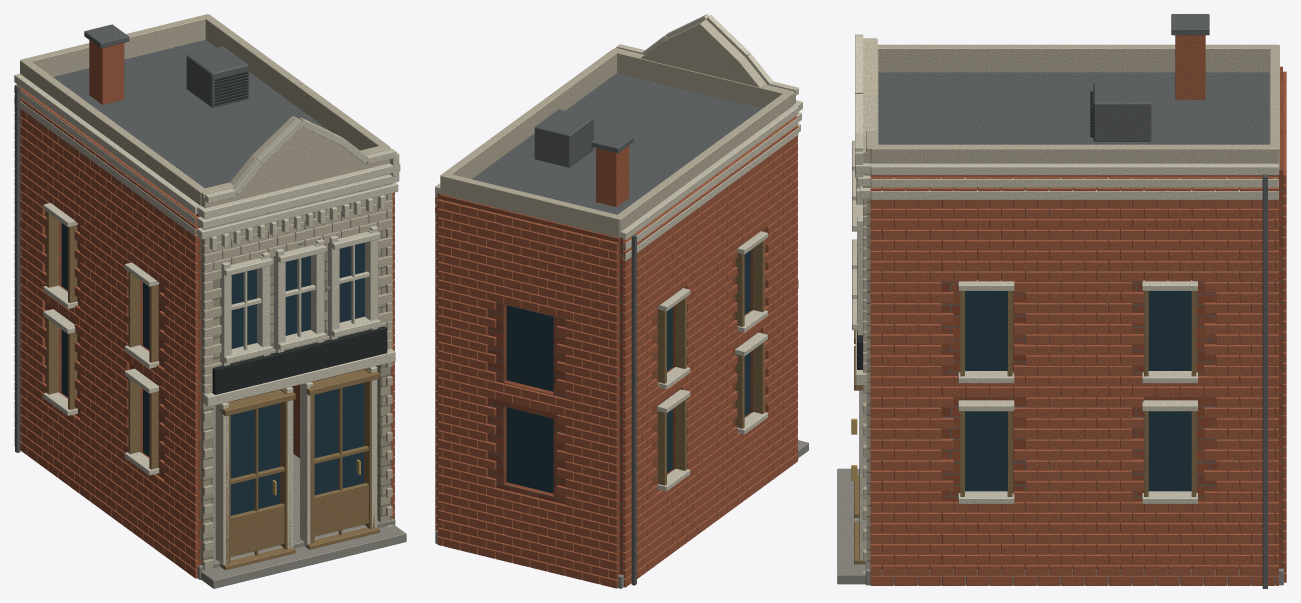
The model's file is CLSTGA16_lod0.glb.
3 views of the same model, side by side, from view 1: azimuth 30°, elevation 25°; view 2: azimuth 150°, elevation 25°; view 3: azimuth 270°, elevation 25° (orthographic). The views are drawn at different scales.
Parts seen in each view (by area): view 1: CLSTGA16_LOD0; view 2: CLSTGA16_LOD0; view 3: CLSTGA16_LOD0.
Boxes of the visible parts, x1,y1,x2,y2 form: CLSTGA16_LOD0: (14,14,406,588); CLSTGA16_LOD0: (435,14,808,588); CLSTGA16_LOD0: (837,14,1286,588).
Size of the model in its own units: 4.11 by 8.05 by 6.6.
16 materials, 13 textured.
